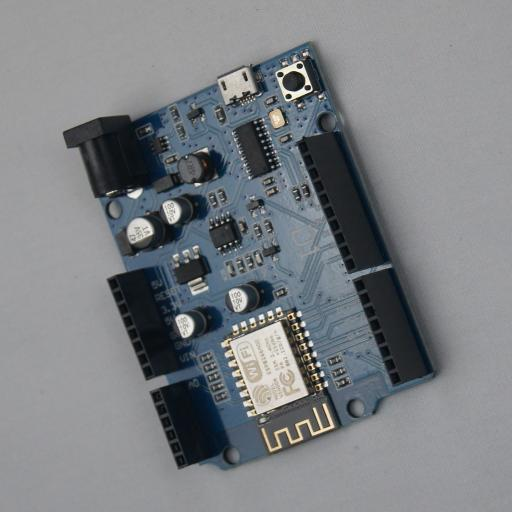Arduino Uno WiFi Shield: (63, 42, 443, 470)
